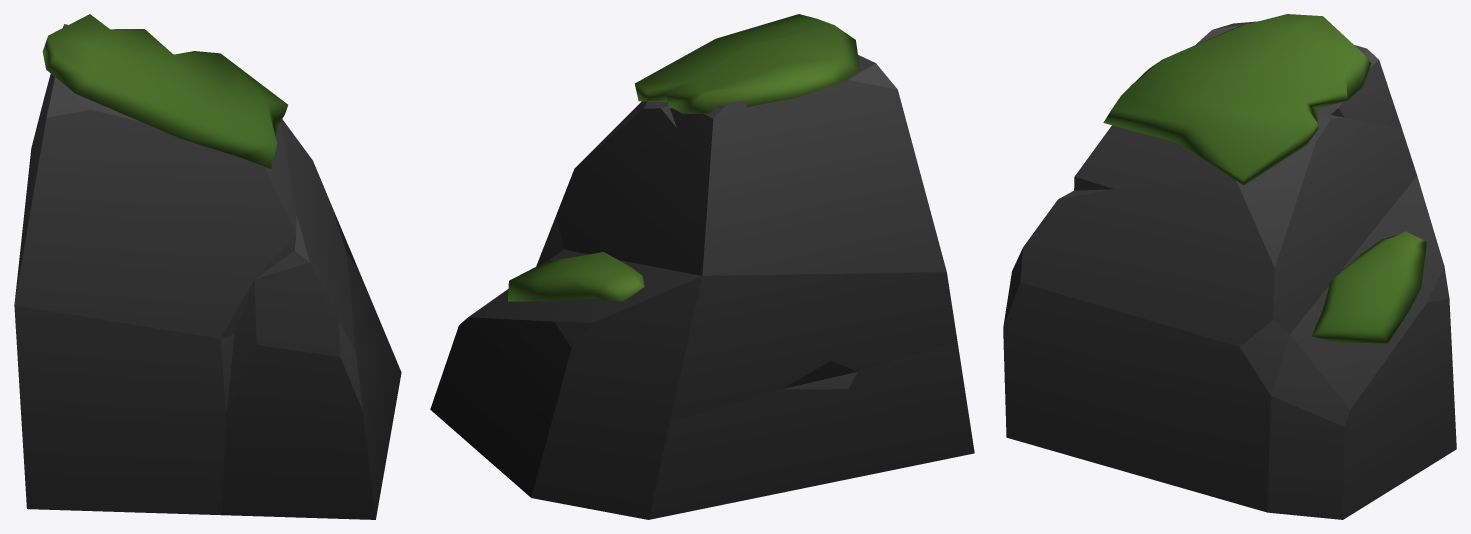
Rendered from small_rock20.fbx.
The picture shows the model from 3 angles, left to right: view 1: azimuth 30°, elevation 25°; view 2: azimuth 150°, elevation 25°; view 3: azimuth 270°, elevation 25°; orthographic projection. The views are drawn at different scales.
Visible parts, largest first — view 1: RBg1; view 2: RBg1; view 3: RBg1.
Part boxes in pixels (x1,y1,x2,y2): RBg1: [14, 14, 401, 519]; RBg1: [430, 14, 974, 519]; RBg1: [1003, 14, 1456, 519].
Bounding box in the file's own units: 289 × 248 × 288.
